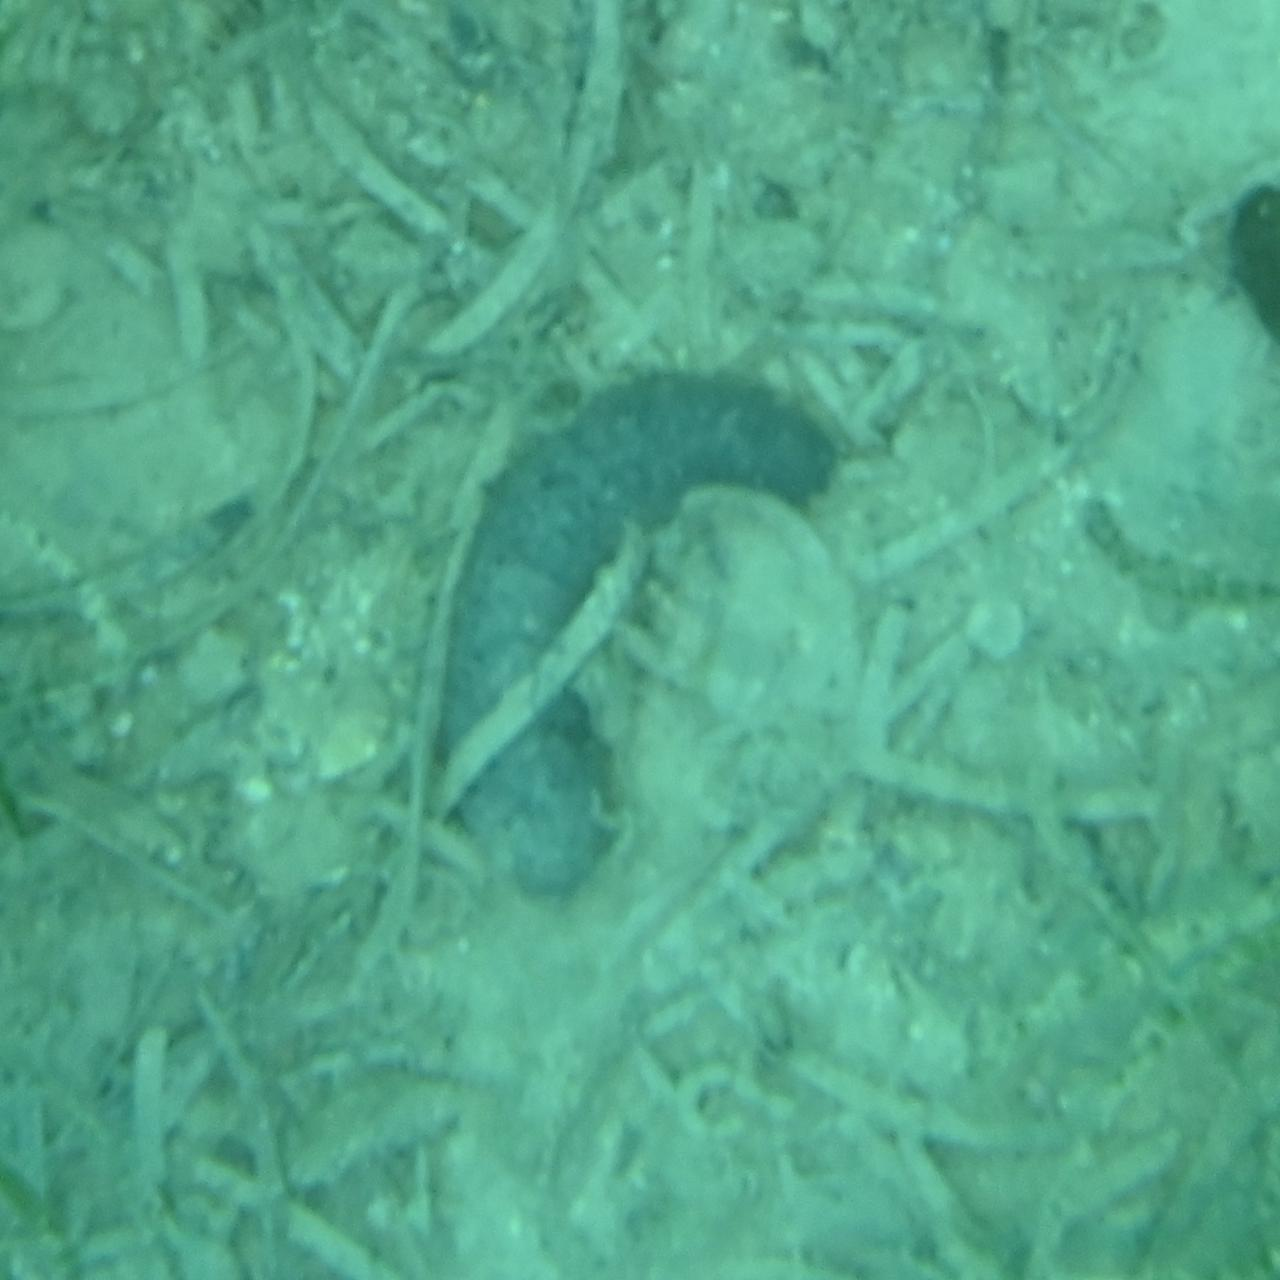Holothuria tubulosa: (434, 370, 846, 910)
